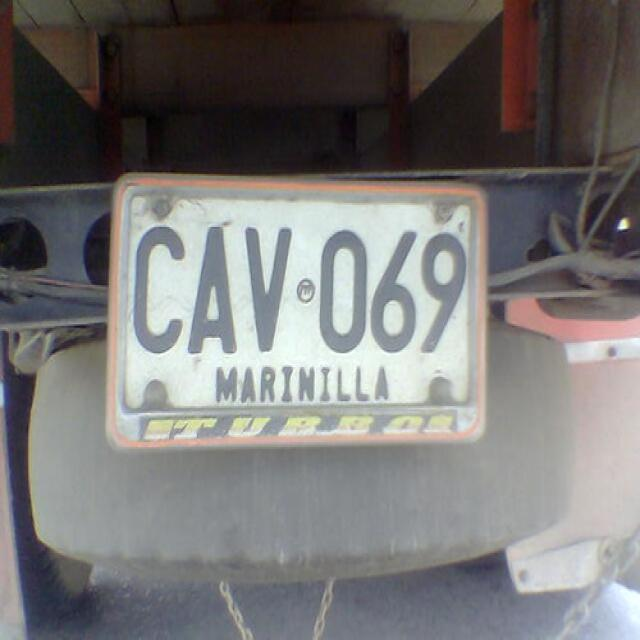placas: (123, 222, 471, 359)
